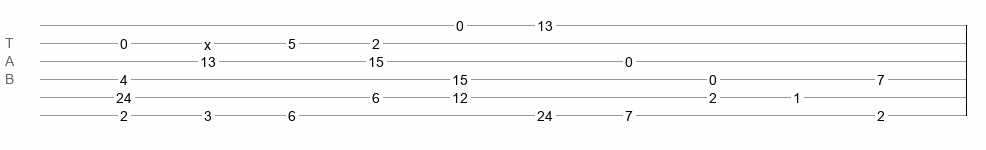0: (120, 36, 128, 46), (456, 18, 464, 28), (625, 54, 633, 64), (709, 72, 717, 82)
1: (793, 90, 801, 100)
12: (452, 90, 468, 100)
13: (200, 54, 216, 64), (537, 18, 553, 28)
15: (368, 54, 384, 64), (452, 72, 468, 82)
2: (120, 108, 128, 118), (372, 36, 380, 46), (709, 90, 717, 100), (877, 108, 885, 118)
24: (116, 90, 132, 100), (537, 108, 553, 118)
3: (204, 108, 212, 118)
4: (120, 72, 128, 82)
5: (288, 36, 296, 46)
6: (288, 108, 296, 118), (372, 90, 380, 100)
7: (625, 108, 633, 118), (877, 72, 885, 82)
x: (204, 37, 211, 45)
